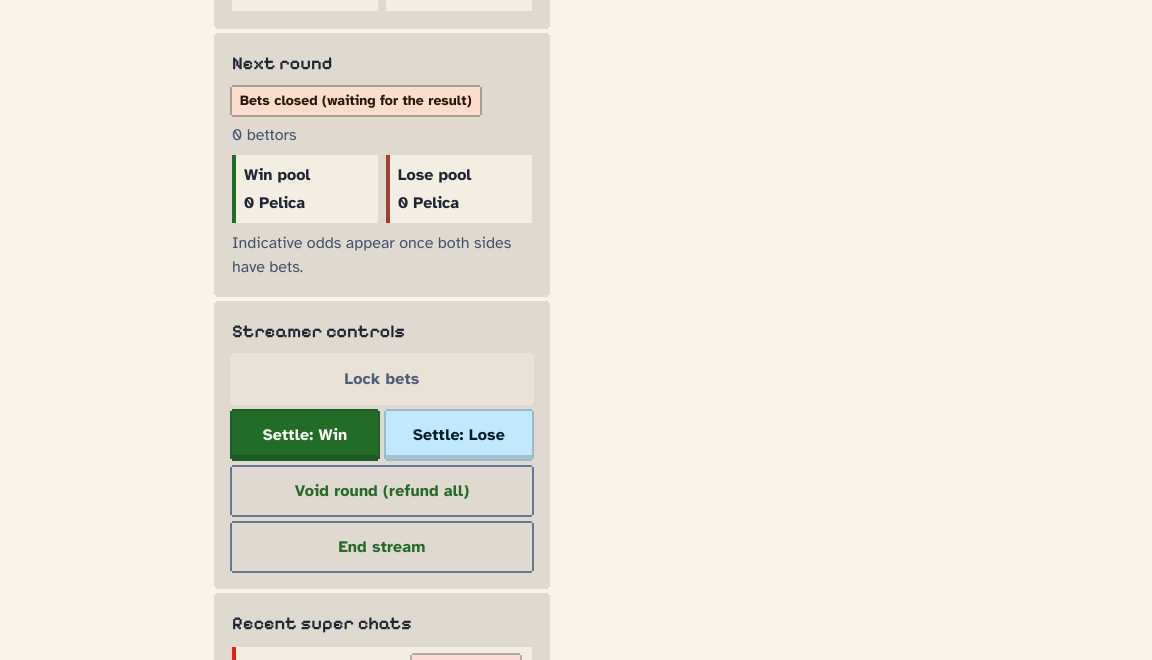
Test: StreamScreen › streamer flow: disables settle while open (D3), enables after lock, confirms settle/void/end
Earlier steps of the test are not shown.
Later steps or results of the test are not shown.
(page scrolled)
Expected: the button "Settle: Lose" is enabled, [386,411,532,459]
Step 1. Click the button "Settle: Win" → (305, 435), box [232,411,378,459]
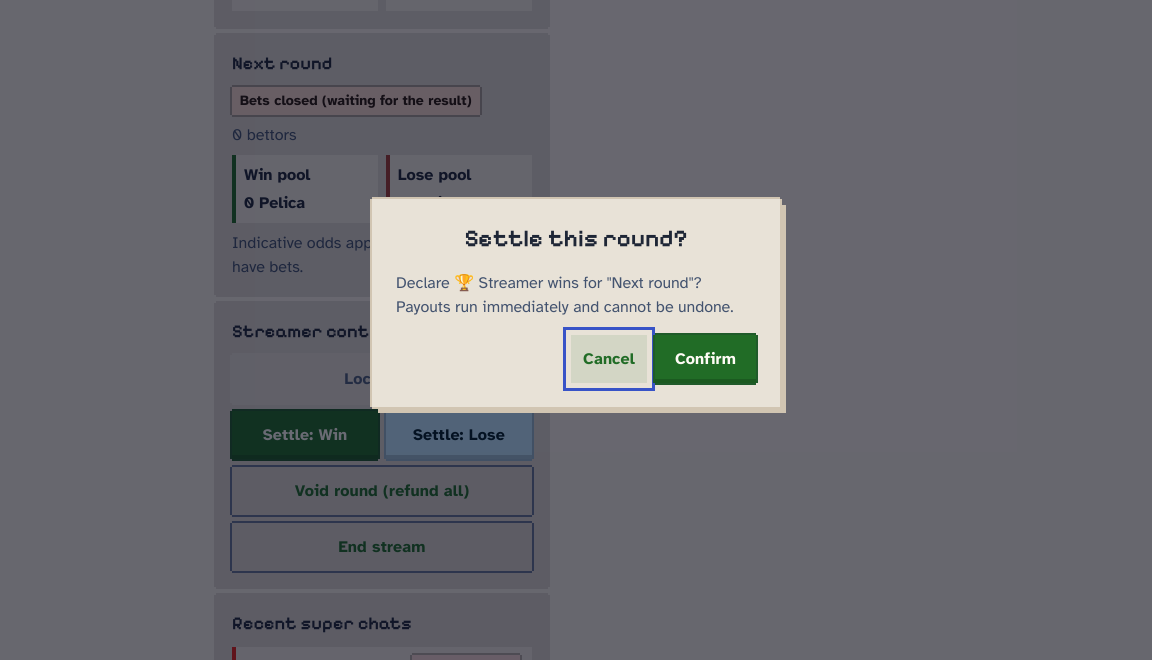
Expected: the dialog is shown, [372,199,780,407]
Step 2. Click the button "Confirm" → (706, 359), box [655,335,756,383]
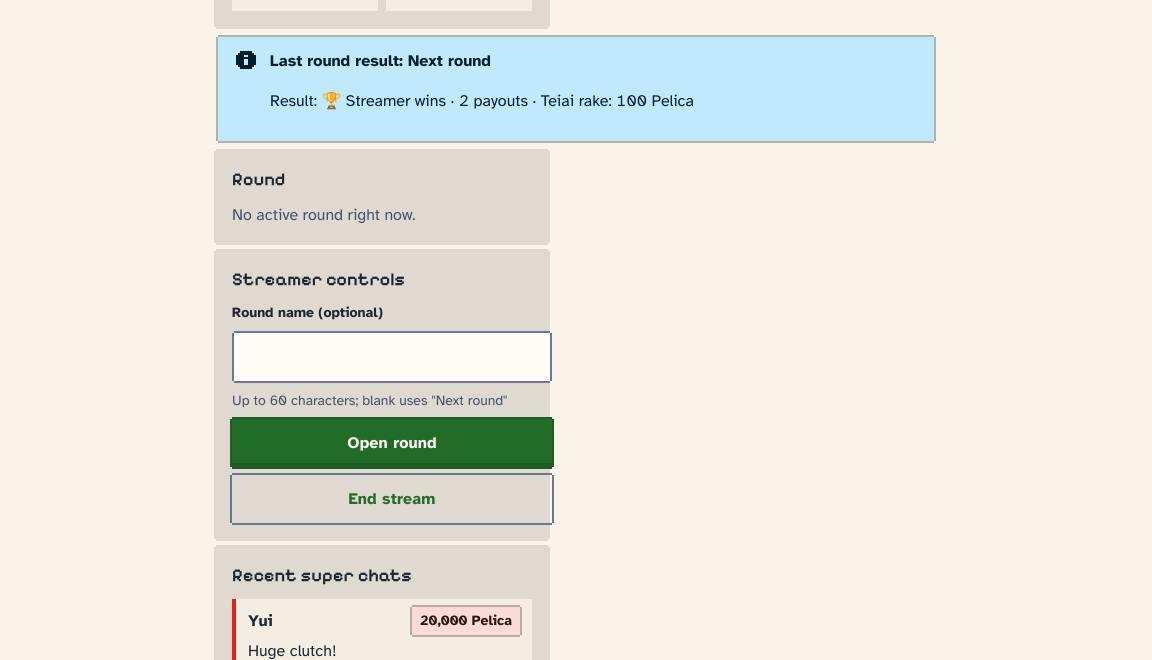
Expected: the text "Last round result" is shown, [270,51,491,71]
Step 3. Click the button "Open round" → (392, 443), box [232,419,552,467]
(page scrolled)
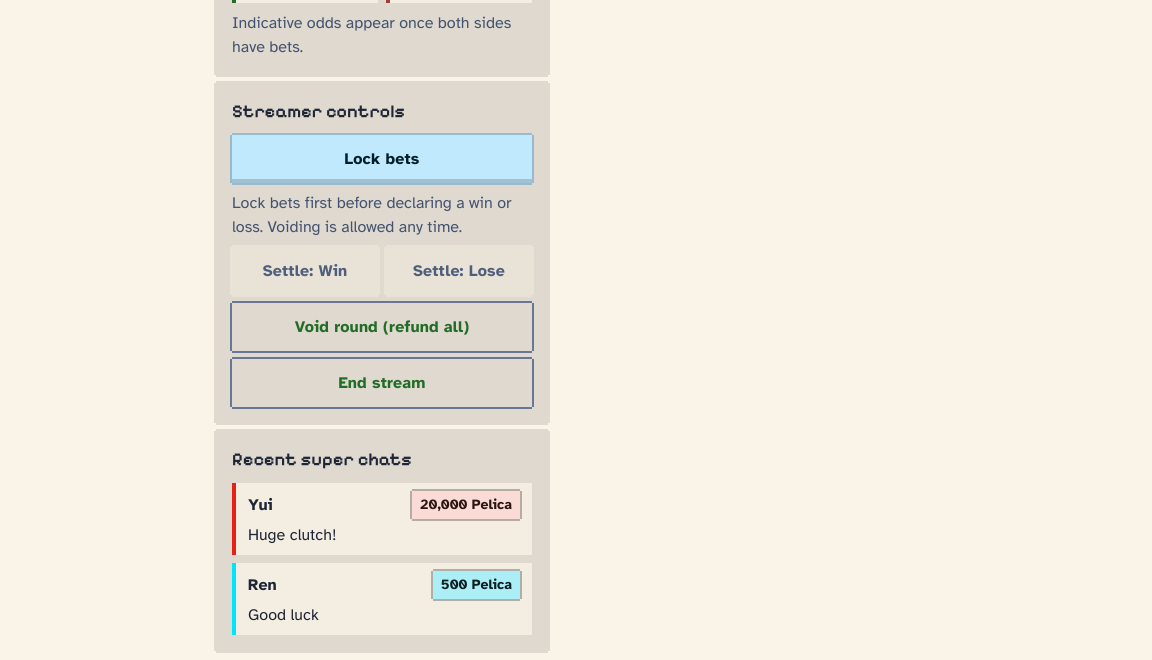
Step 4. Click the button "Void round (refund all)" → (382, 327), box [232,303,532,351]
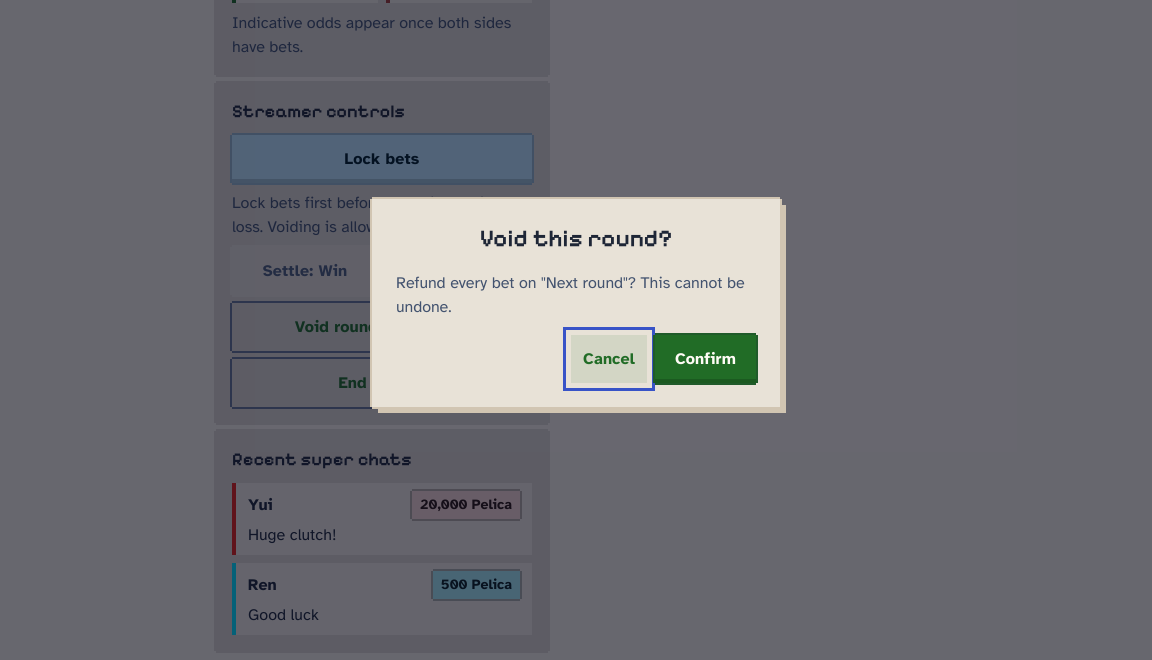
Expected: the dialog is shown, [372,199,780,407]
Step 5. Click the button "Confirm" → (706, 359), box [655,335,756,383]
(page scrolled)
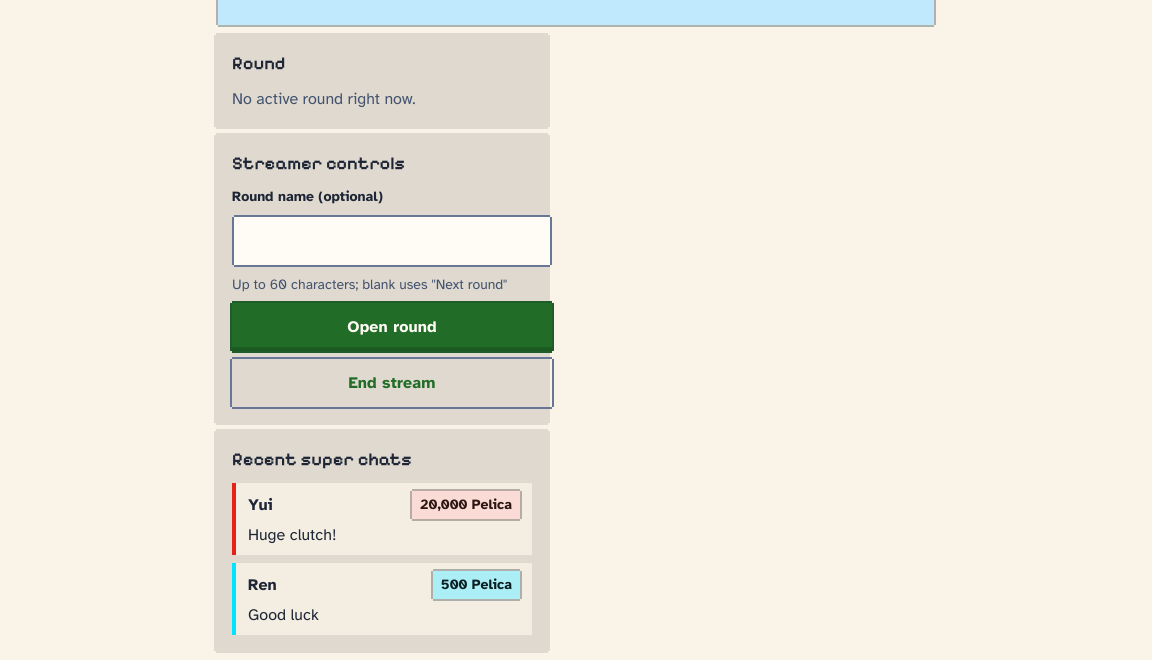
Step 6. Click the button "End stream" → (392, 383), box [232,359,552,407]
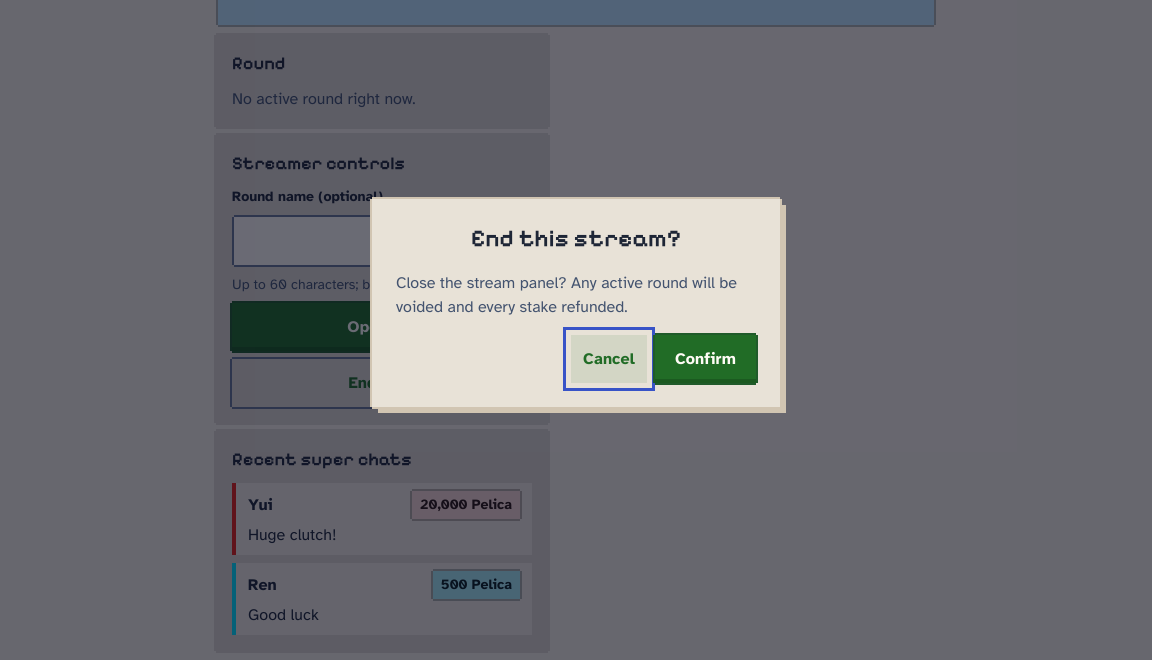
Expected: the dialog is shown, [372,199,780,407]
